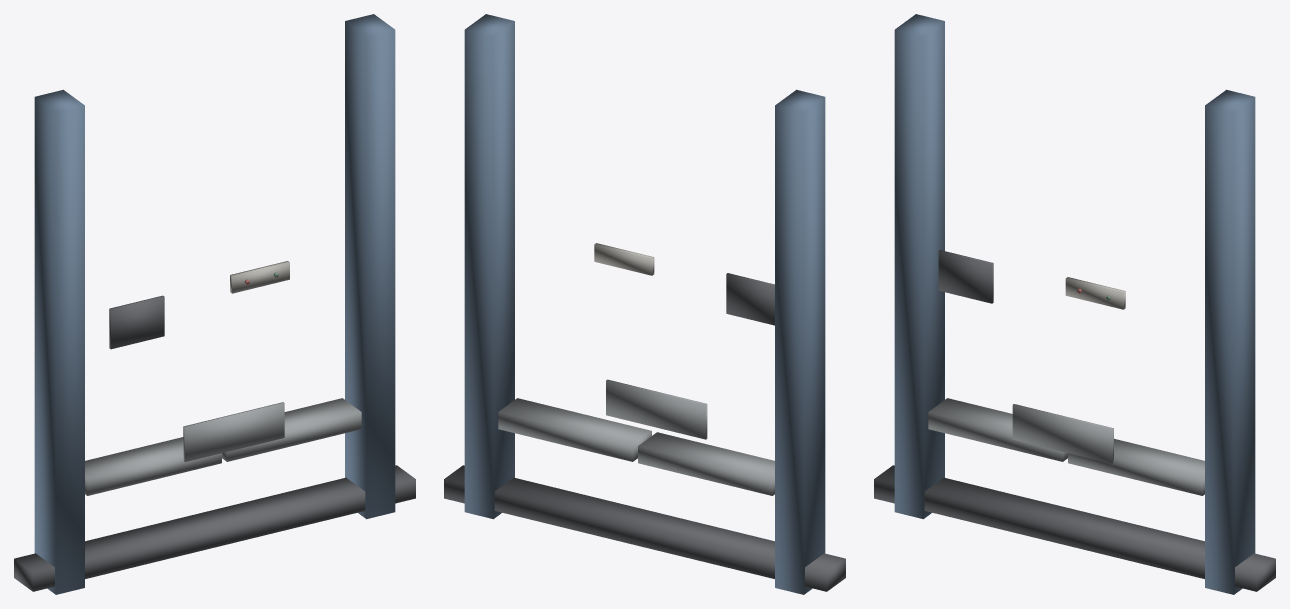
File: two_post_car_lift__weathered.glb
The picture shows the model from 3 angles, left to right: view 1: azimuth 30°, elevation 25°; view 2: azimuth 150°, elevation 25°; view 3: azimuth 330°, elevation 25°; orthographic projection.
Parts seen in each view (by area): view 1: world; view 2: world; view 3: world.
Boxes of the visible parts, left/top/right/bottom form: world: left=14, top=14, right=415, bottom=594; world: left=444, top=14, right=845, bottom=594; world: left=874, top=14, right=1275, bottom=594.
Size of the model in its own units: 1.85 by 2.23 by 0.225.
